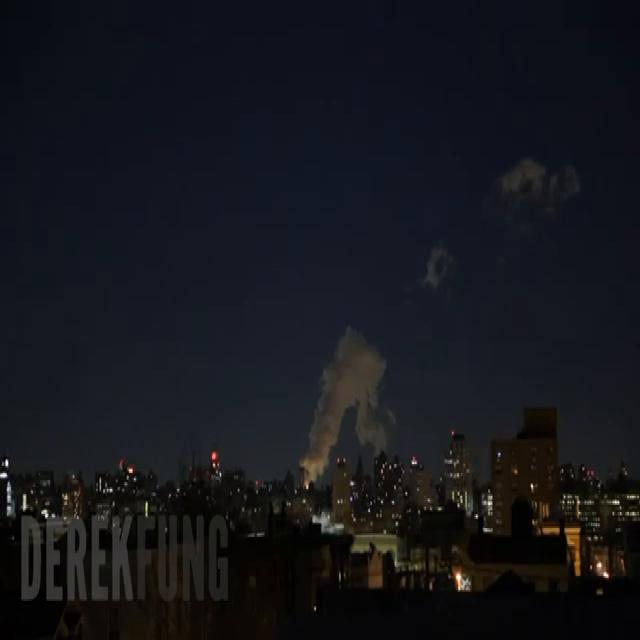smoke: (299, 327, 387, 491)
